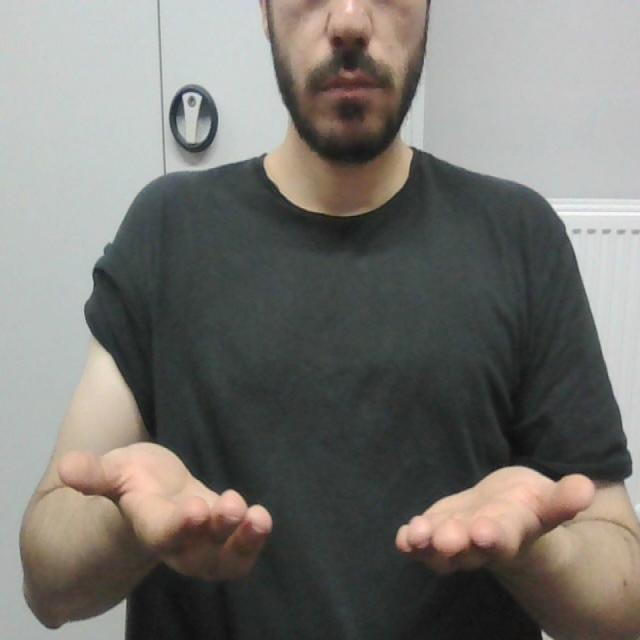Evet: (56, 438, 599, 590)
